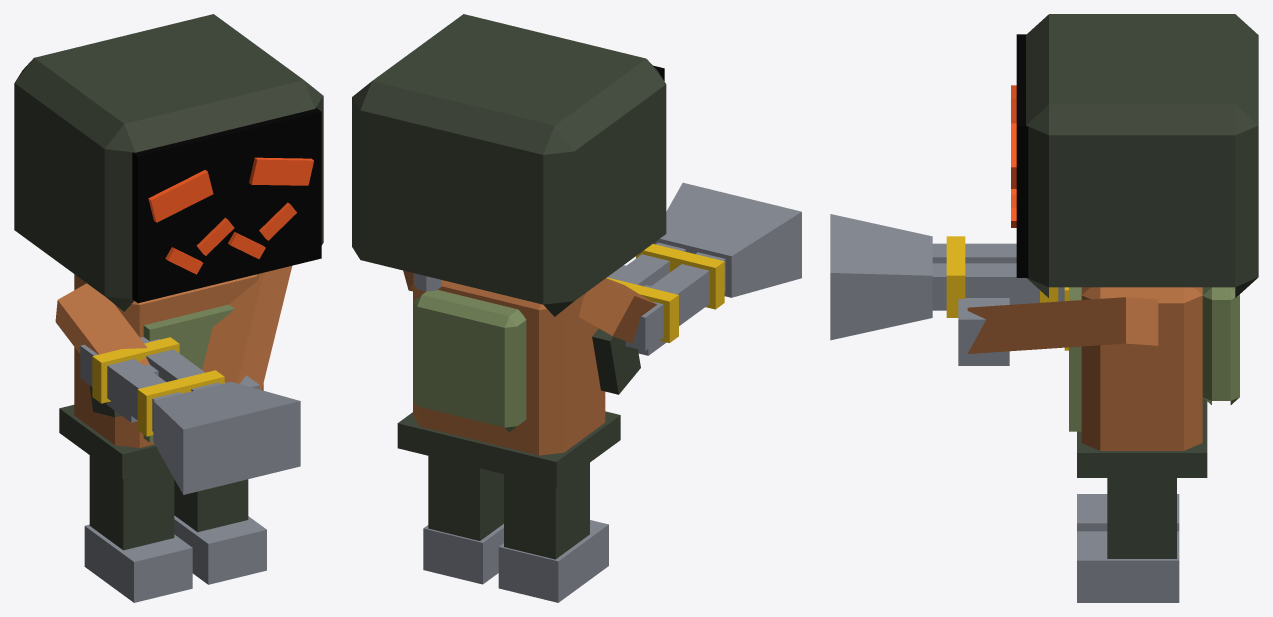
File: shotgunner_r7.glb
3 views of the same model, side by side, from view 1: azimuth 30°, elevation 25°; view 2: azimuth 150°, elevation 25°; view 3: azimuth 270°, elevation 25° (orthographic). The views are drawn at different scales.
Visible parts, largest first — view 1: shotgunner_r7_mesh; view 2: shotgunner_r7_mesh; view 3: shotgunner_r7_mesh.
Part boxes in pixels (<box>): shotgunner_r7_mesh: <box>14,14,323,602</box>; shotgunner_r7_mesh: <box>352,14,801,602</box>; shotgunner_r7_mesh: <box>830,14,1258,602</box>.
Bounding box in the file's own units: 0.8002 × 1.5 × 1.14.
1 material, 1 textured.
